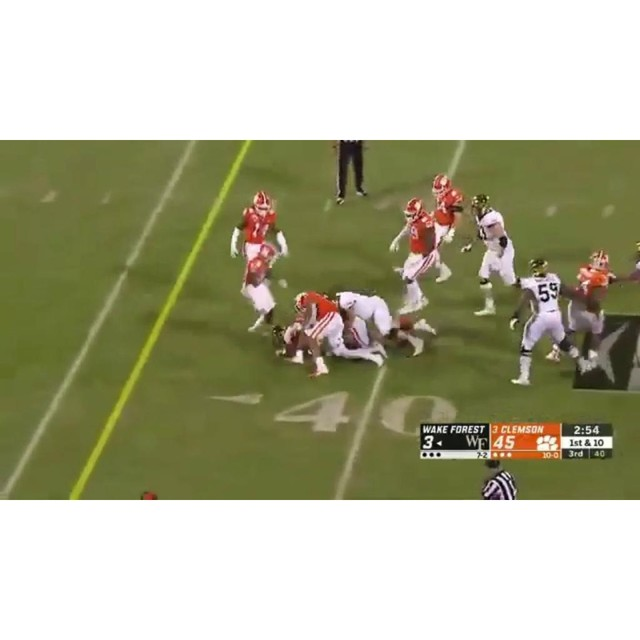american-football-player: (509, 258, 588, 386), (389, 198, 444, 337), (284, 304, 387, 372), (469, 194, 522, 319), (567, 251, 617, 376), (335, 289, 392, 361), (428, 174, 464, 284), (231, 190, 283, 266), (240, 245, 282, 334), (332, 140, 369, 204)
referee: (480, 458, 519, 500)
